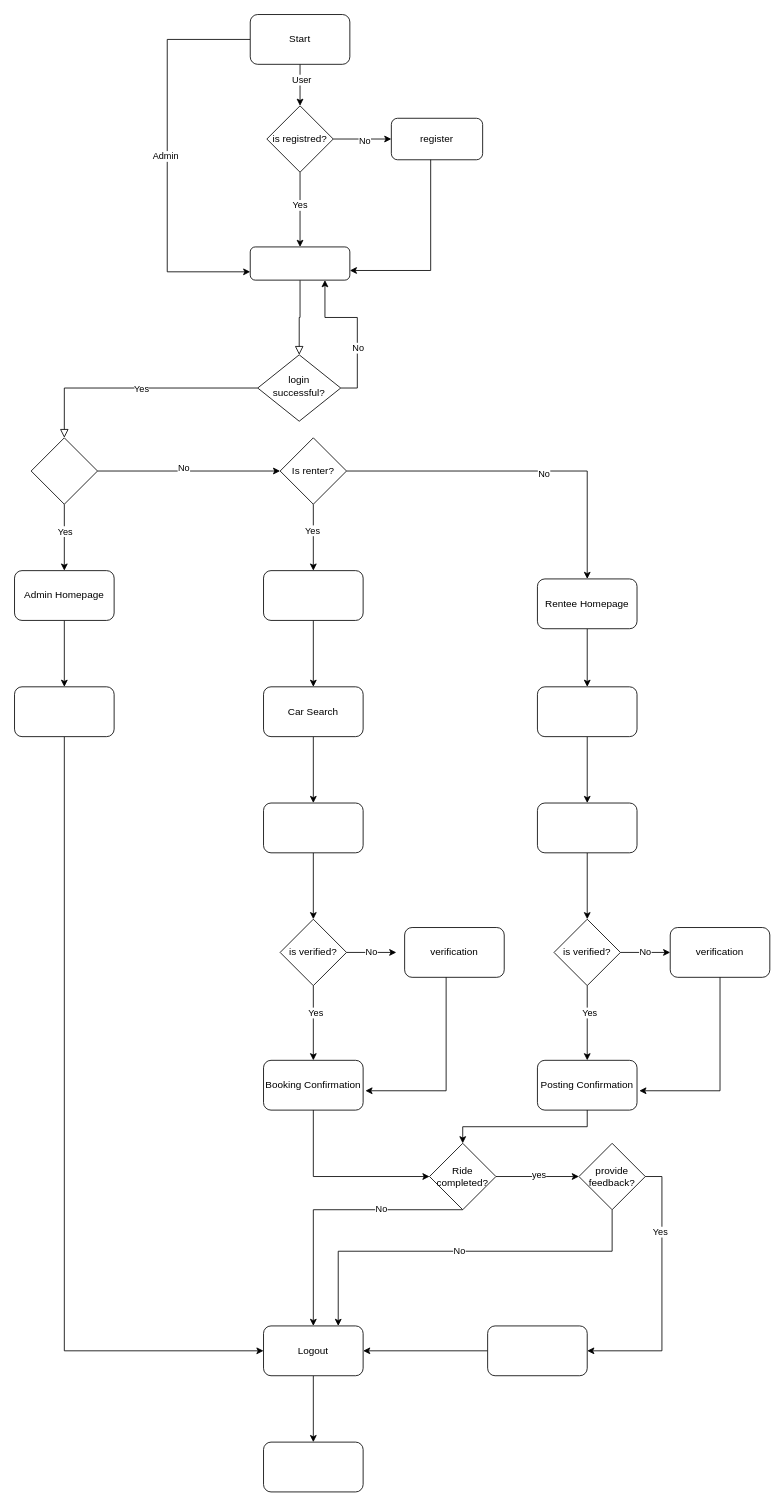
Image size: 784x1506. Some labels were removed from this diagram. Here are the shapes that lost their labels. From the top down, the centre of each, then its label:
At point (299, 263): "login".
At point (64, 470): "Is admin?".
At point (313, 595): "Renter Homepage".
At point (64, 711): "Dashboard Analytics".
At point (587, 711): "Add car".
At point (313, 827): "Car Reserve/Payment".
At point (587, 827): "Update reservation".
At point (537, 1350): "Feedback".
At point (313, 1466): "End".
